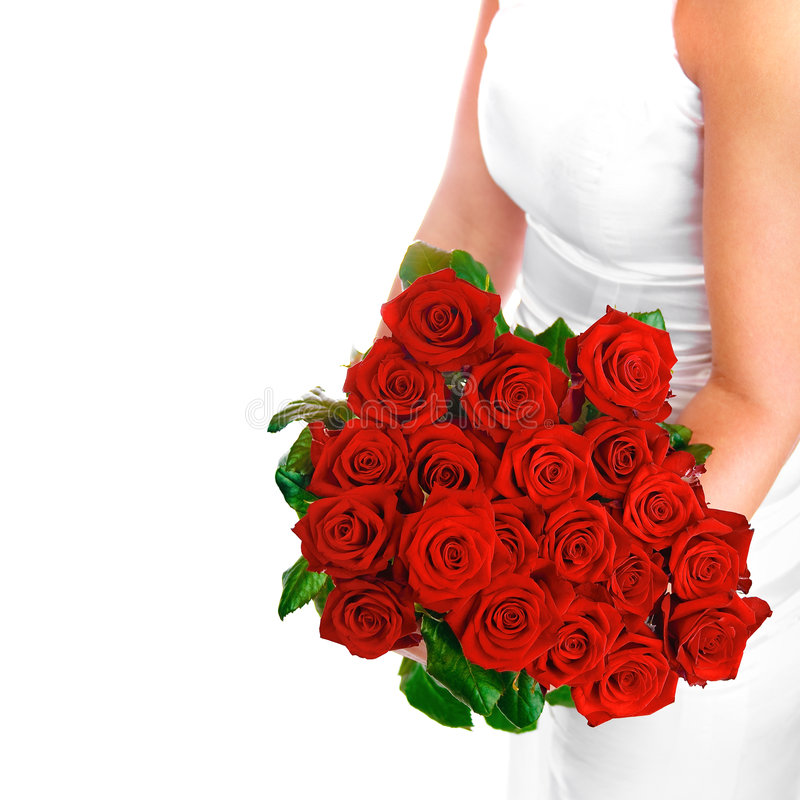RedRose: (402, 482, 499, 621), (592, 301, 683, 427), (559, 650, 678, 740), (392, 268, 493, 369), (487, 344, 583, 450), (678, 534, 757, 608), (324, 485, 394, 559), (507, 439, 583, 507), (606, 478, 699, 532), (571, 433, 676, 480), (309, 427, 386, 491), (557, 610, 621, 680), (334, 348, 416, 402), (412, 429, 491, 485), (555, 507, 610, 586), (683, 612, 755, 672), (313, 583, 388, 639), (604, 532, 656, 610), (483, 623, 546, 672)
